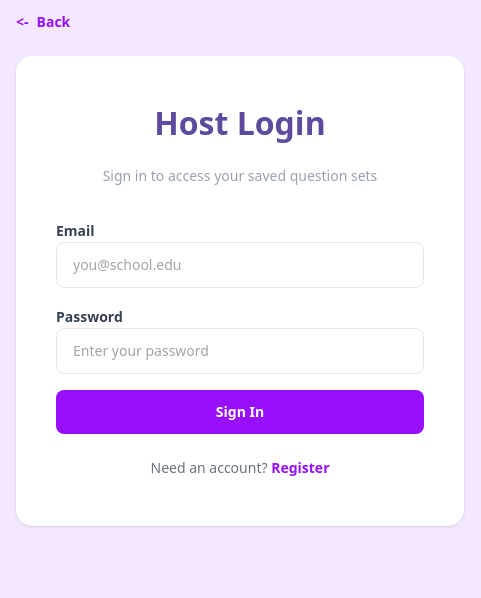
it: HostLogin › shows a validation error when required fields are missing
Step 1. Click the button "Sign In" → [240, 412], box [56,390,424,434]
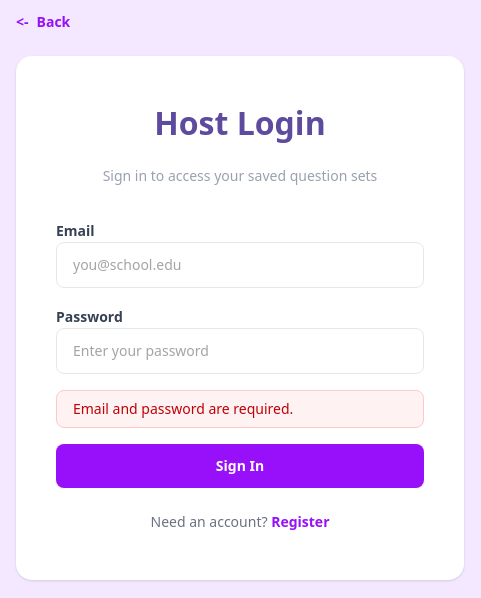
Result: the text "Email and password are required." is shown at [56,390,424,428]
